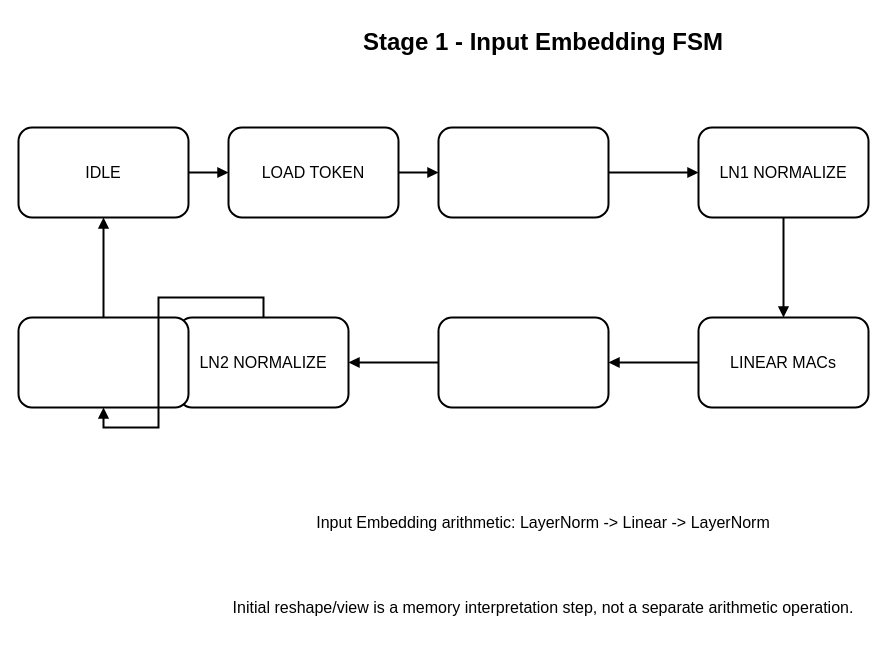
The diagram is 895 pixels wide and 654 high, and some of its shapes have lost their labels. The shapes that lost their labels are listed below. From the top down, each one's box as (x1, y1, x2, y2) in pixels, then its label:
(437, 126, 609, 218): LN1 STATS mean + variance
(17, 316, 189, 408): WRITE OUTPUT
(437, 316, 609, 408): LN2 STATS mean + variance
